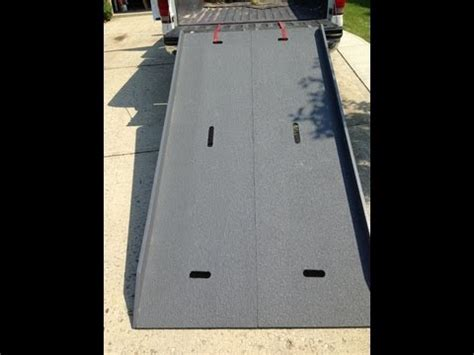Yard Ramp: (134, 26, 374, 327)
